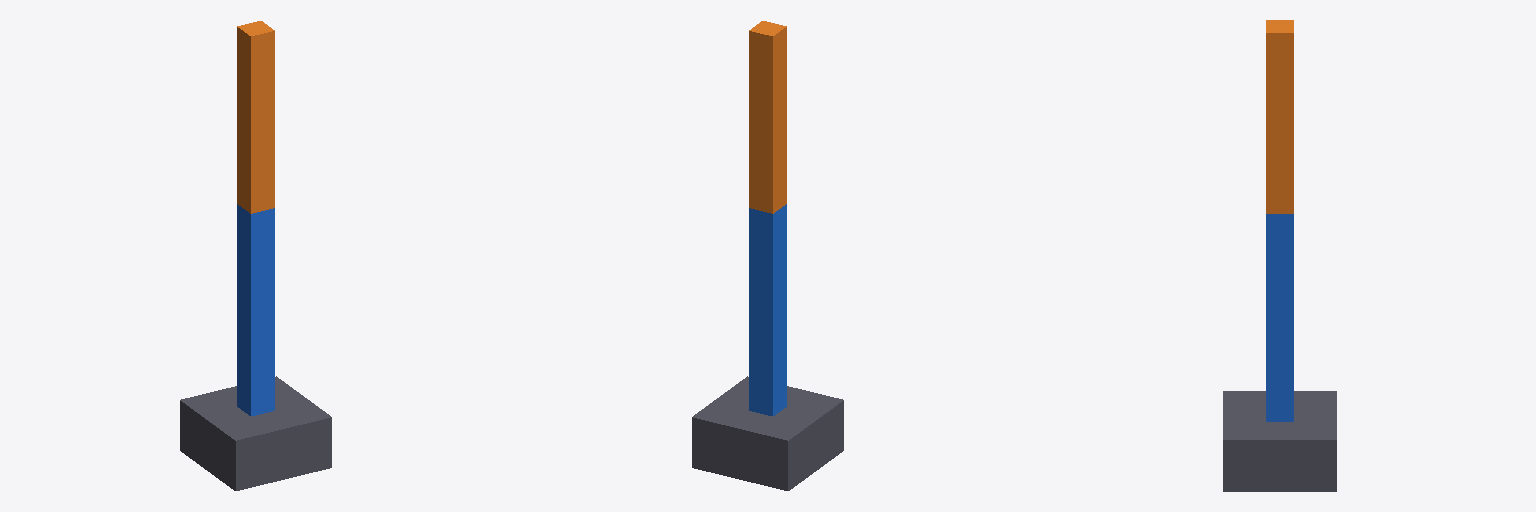
URDF robot description (simple_arm):
<?xml version="1.0"?>
<!-- ==========================================================================
     arm.urdf  —  a minimal 2-joint robot arm
     ==========================================================================
     A URDF ("Unified Robot Description Format") is just an XML file that
     describes a robot as a tree of LINKS (rigid bodies) connected by JOINTS
     (the movable connections between them).

     This arm has:
       base_link      -> a fixed pedestal sitting on the ground
       shoulder joint -> revolute (rotating) joint, THIS is the one we swing
       upper_arm      -> the first arm segment
       elbow joint    -> a second revolute joint (held still for now)
       forearm        -> the second arm segment

     Every <link> has:
       <visual>    what it looks like
       <collision> its physical shape for the physics engine
       <inertial>  its mass + how that mass is distributed
     ========================================================================== -->
<robot name="simple_arm">

  <!-- ===================== BASE (fixed pedestal) ===================== -->
  <link name="base_link">
    <visual>
      <geometry><box size="0.2 0.2 0.1"/></geometry>
      <origin xyz="0 0 0.05"/>
      <material name="gray"><color rgba="0.4 0.4 0.45 1"/></material>
    </visual>
    <collision>
      <geometry><box size="0.2 0.2 0.1"/></geometry>
      <origin xyz="0 0 0.05"/>
    </collision>
    <inertial>
      <mass value="5.0"/>
      <inertia ixx="0.02" iyy="0.02" izz="0.02" ixy="0" ixz="0" iyz="0"/>
    </inertial>
  </link>

  <!-- ===================== SHOULDER JOINT (the one that swings) ======
       type="revolute"  -> it rotates about one axis
       axis xyz="0 1 0" -> it rotates about the Y axis (arm swings up/down)
       limit            -> how far it can turn and how hard it can push
       This joint is named "shoulder" — the script drives it back and forth. -->
  <joint name="shoulder" type="revolute">
    <parent link="base_link"/>
    <child  link="upper_arm"/>
    <origin xyz="0 0 0.1" rpy="0 0 0"/>
    <axis xyz="0 1 0"/>
    <limit lower="-1.57" upper="1.57" effort="50" velocity="5.0"/>
  </joint>

  <!-- ===================== UPPER ARM SEGMENT ===================== -->
  <link name="upper_arm">
    <visual>
      <!-- a long thin box; shifted up so it grows out of the joint -->
      <geometry><box size="0.05 0.05 0.4"/></geometry>
      <origin xyz="0 0 0.2"/>
      <material name="blue"><color rgba="0.2 0.5 0.9 1"/></material>
    </visual>
    <collision>
      <geometry><box size="0.05 0.05 0.4"/></geometry>
      <origin xyz="0 0 0.2"/>
    </collision>
    <inertial>
      <mass value="1.0"/>
      <origin xyz="0 0 0.2"/>
      <inertia ixx="0.014" iyy="0.014" izz="0.001" ixy="0" ixz="0" iyz="0"/>
    </inertial>
  </link>

  <!-- ===================== ELBOW JOINT (bends one way, like a real elbow) =====
       A human elbow only flexes in ONE direction — it can't bend backward past
       straight. So the lower limit is 0 (fully straight) and the upper limit is
       about 2.5 rad (~143 deg), roughly the max a person can curl their forearm.
       This is what stops the forearm from hyperextending the wrong way. -->
  <joint name="elbow" type="revolute">
    <parent link="upper_arm"/>
    <child  link="forearm"/>
    <origin xyz="0 0 0.4" rpy="0 0 0"/>
    <axis xyz="0 1 0"/>
    <limit lower="0" upper="2.5" effort="50" velocity="5.0"/>
  </joint>

  <!-- ===================== FOREARM SEGMENT ===================== -->
  <link name="forearm">
    <visual>
      <geometry><box size="0.05 0.05 0.35"/></geometry>
      <origin xyz="0 0 0.175"/>
      <material name="orange"><color rgba="0.95 0.55 0.2 1"/></material>
    </visual>
    <collision>
      <geometry><box size="0.05 0.05 0.35"/></geometry>
      <origin xyz="0 0 0.175"/>
    </collision>
    <inertial>
      <mass value="0.7"/>
      <origin xyz="0 0 0.175"/>
      <inertia ixx="0.008" iyy="0.008" izz="0.001" ixy="0" ixz="0" iyz="0"/>
    </inertial>
  </link>

</robot>

--- What the picture shows (computed from the rendered views, not written in the file) ---
Views: 3 orthographic renders of the robot side by side, from view 1: azimuth 30°, elevation 25°; view 2: azimuth 150°, elevation 25°; view 3: azimuth 270°, elevation 25°.
Robot: simple_arm — 3 links, 2 joints (2 revolute); root link base_link; default pose: all joints at 0.
Visible links, largest first — view 1: base_link, upper_arm, forearm; view 2: base_link, upper_arm, forearm; view 3: base_link, upper_arm, forearm.
Boxes of the visible links, box(x1,y1,x2,y2) form: base_link: box(180, 376, 331, 490); upper_arm: box(237, 204, 274, 415); forearm: box(237, 21, 274, 213); base_link: box(692, 376, 843, 490); upper_arm: box(749, 204, 786, 415); forearm: box(749, 21, 786, 213); base_link: box(1223, 391, 1336, 491); upper_arm: box(1266, 214, 1293, 421); forearm: box(1266, 20, 1293, 213).
Size in the robot's own frame: 0.2 by 0.2 by 0.85 metres.
Geometry: primitives only (box / cylinder / sphere), no mesh files.
